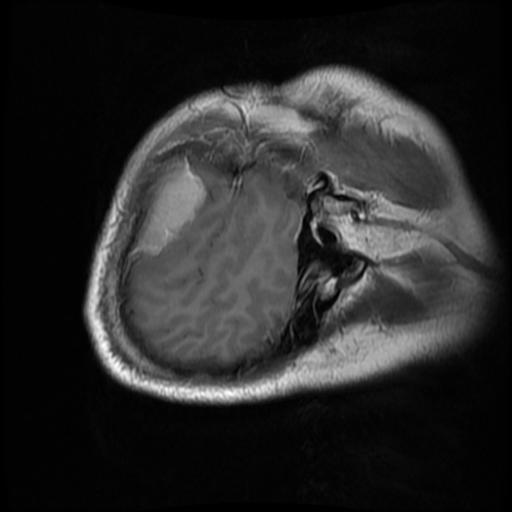meningioma: (134, 160, 204, 254)
